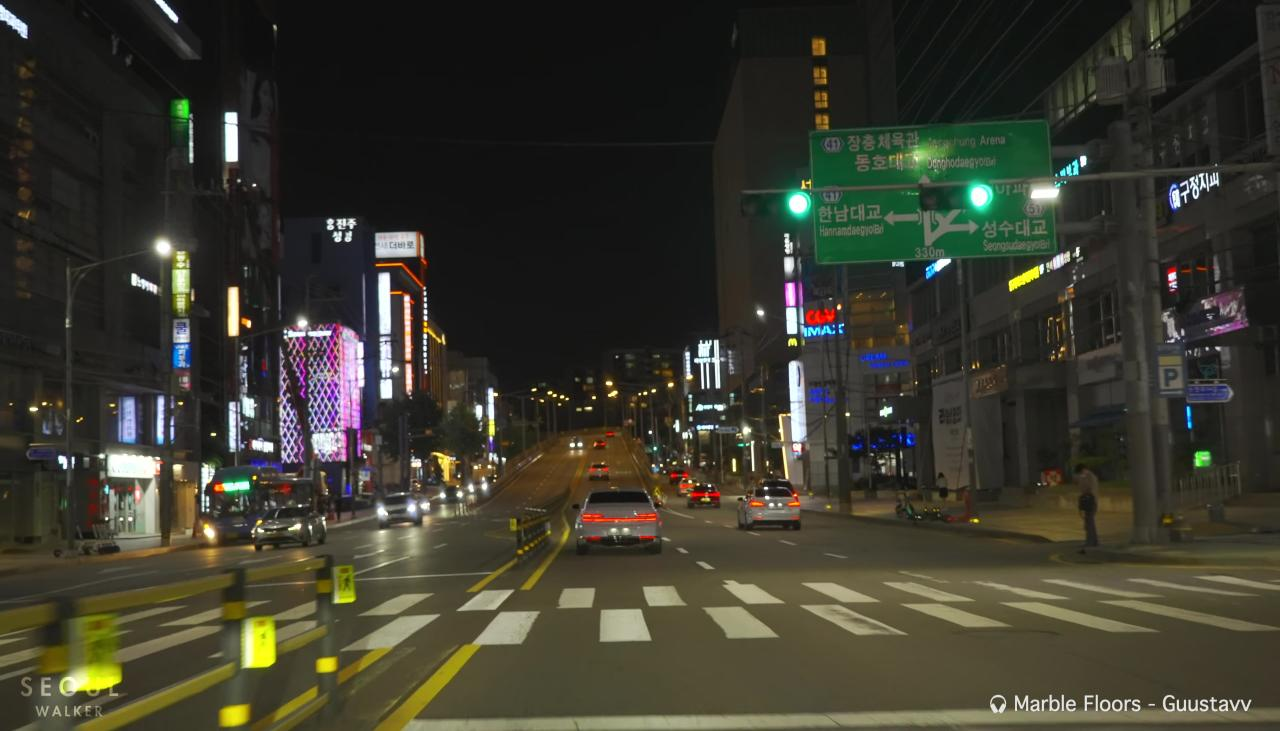Green Light: (787, 191, 812, 216), (968, 183, 992, 209)
